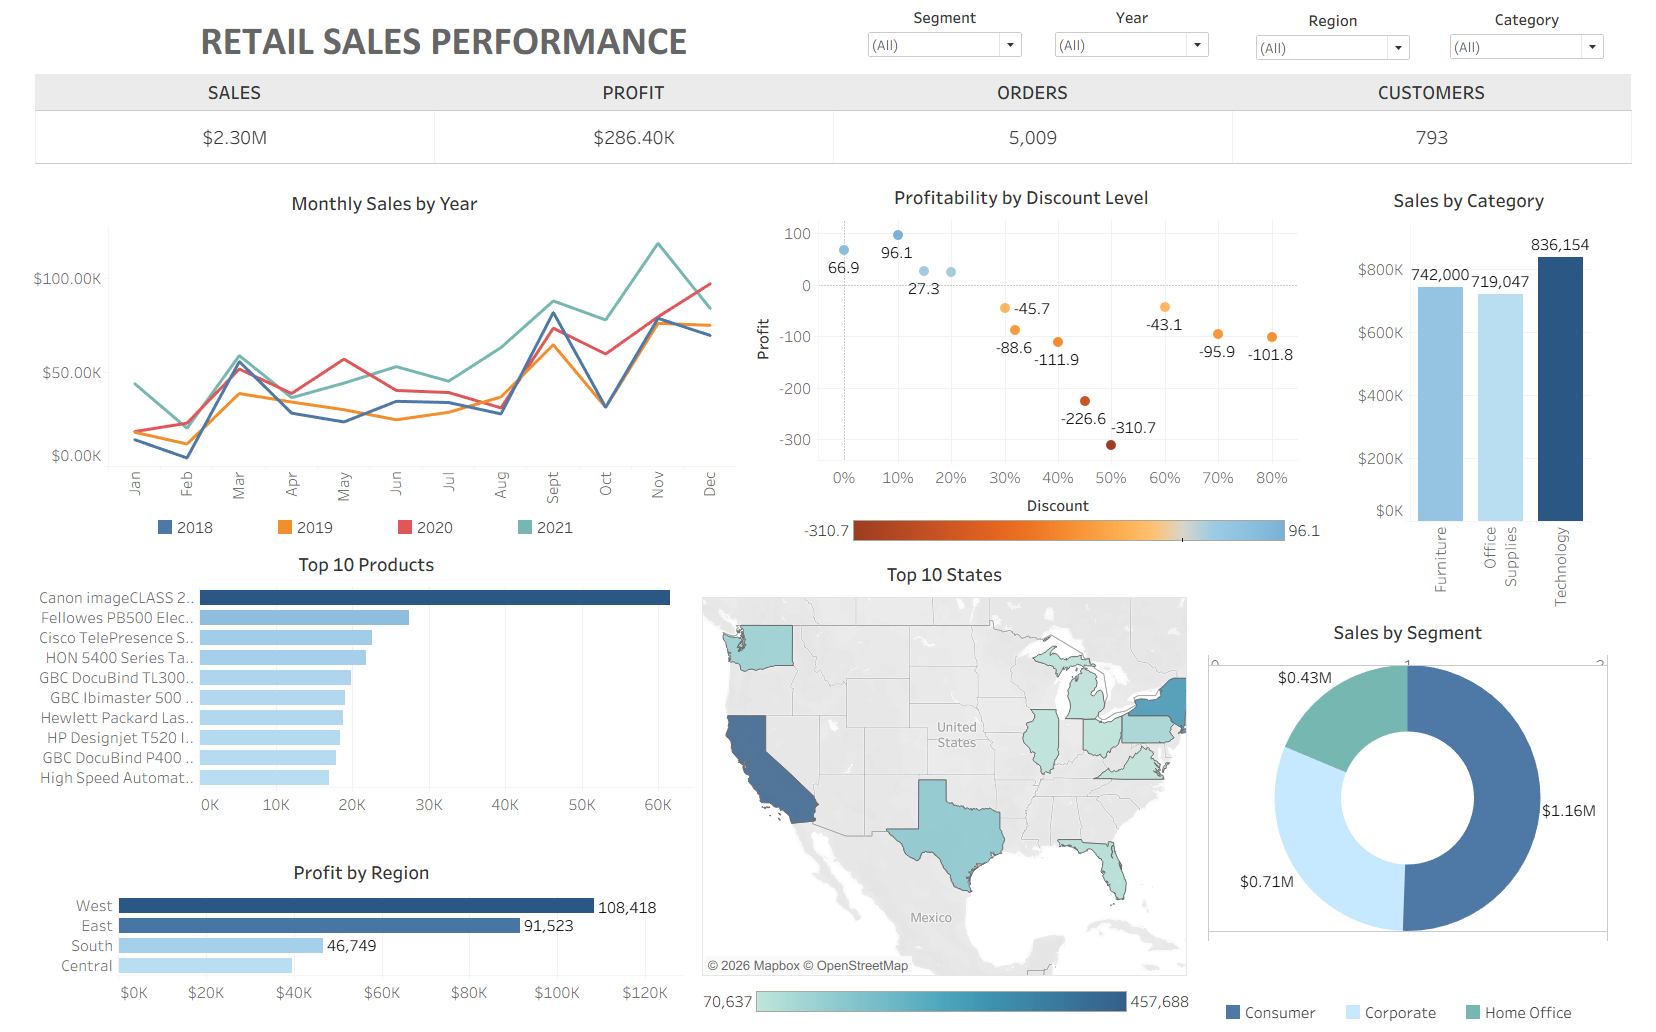

This screenshot's page, from the dashboard's own definition file:
{"tool":"tableau","page":{"name":"Dashboard","canvas":[1000,1000],"units":"permille","ordinal":0},"visuals":[{"type":"filter","title":"Average Profit by Discount","param":"[federated.1ro9wa51wy0hym1ewtqgm0tbjdsn].[none:Segment:nk]","box":[519.4,6.6,100,58.1]},{"type":"filter","title":"Average Profit by Discount","param":"[federated.1ro9wa51wy0hym1ewtqgm0tbjdsn].[yr:Order Date:ok]","box":[636.2,6.6,100,58.1]},{"type":"text","box":[0.6,8.8,511.2,60.3]},{"type":"filter","title":"Average Profit by Discount","param":"[federated.1ro9wa51wy0hym1ewtqgm0tbjdsn].[none:Category:nk]","box":[883.1,8.8,100,58.1]},{"type":"filter","title":"Average Profit by Discount","param":"[federated.1ro9wa51wy0hym1ewtqgm0tbjdsn].[none:Region:nk]","box":[761.9,9.9,100,58.1]},{"type":"worksheet","title":"KPI","mark":"Automatic","box":[0.6,71,1000,116]},{"type":"worksheet","title":"Average Profit by Discount","mark":"Circle","rows":["Profit"],"cols":["Discount"],"box":[444.4,173,345.6,329]},{"type":"worksheet","title":"Sales by Category","mark":"Bar","rows":["Sales"],"cols":["Category"],"box":[821.2,175.4,183.1,420]},{"type":"legend","title":"Average Profit by Discount","param":"[federated.1ro9wa51wy0hym1ewtqgm0tbjdsn].[avg:Profit:qk]","box":[478.8,494.5,328.1,55.9]},{"type":"legend","title":"Monthly Sales Trend","param":"[federated.1ro9wa51wy0hym1ewtqgm0tbjdsn].[yr:Order Date:ok]","box":[75.6,495.6,334.4,37.3]},{"type":"worksheet","title":"Top 10 Products","mark":"Automatic","rows":["Product Name"],"cols":["Sales"],"box":[3.1,524.1,409.4,302.6]},{"type":"worksheet","title":"Top 10 States","mark":"Automatic","box":[417.5,534,303.1,401.3]},{"type":"legend","title":"Sales by Segment","param":"[federated.1ro9wa51wy0hym1ewtqgm0tbjdsn].[none:Segment:nk]","box":[743.1,960.5,236.2,39.5]}]}

Visuals, with their boxes on the dashboard's canvas, which has no fixed pixel size, in thousandths of its width and height (x1, y1, x2, y2). These are canvas units, not pixel positions in the 1656x1032 screenshot, which may show the page scaled, cropped or inside an application window:
"Average Profit by Discount" filter: locate(519, 7, 619, 65)
"Average Profit by Discount" filter: locate(636, 7, 736, 65)
text: locate(1, 9, 512, 69)
"Average Profit by Discount" filter: locate(883, 9, 983, 67)
"Average Profit by Discount" filter: locate(762, 10, 862, 68)
"KPI" worksheet: locate(1, 71, 1001, 187)
"Average Profit by Discount" worksheet (Circle marks): locate(444, 173, 790, 502)
"Sales by Category" worksheet (Bar marks): locate(821, 175, 1004, 595)
"Average Profit by Discount" legend: locate(479, 494, 807, 550)
"Monthly Sales Trend" legend: locate(76, 496, 410, 533)
"Top 10 Products" worksheet: locate(3, 524, 412, 827)
"Top 10 States" worksheet: locate(418, 534, 721, 935)
"Sales by Segment" legend: locate(743, 960, 979, 1000)
